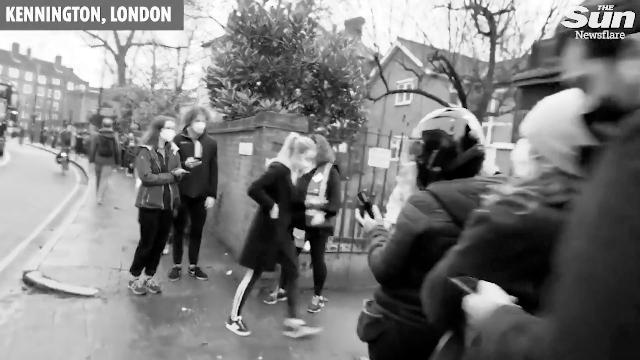berdiri: (162, 106, 210, 280)
